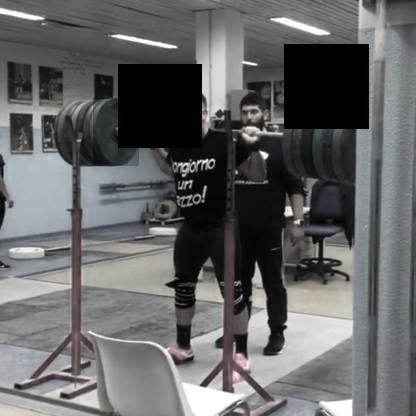barbell: (93, 98, 140, 167)
